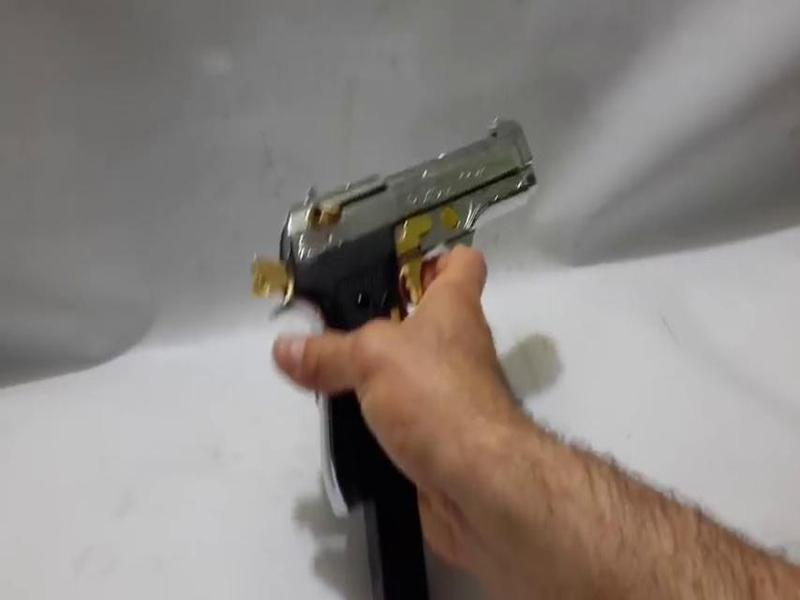Pistola: (267, 100, 576, 434)
